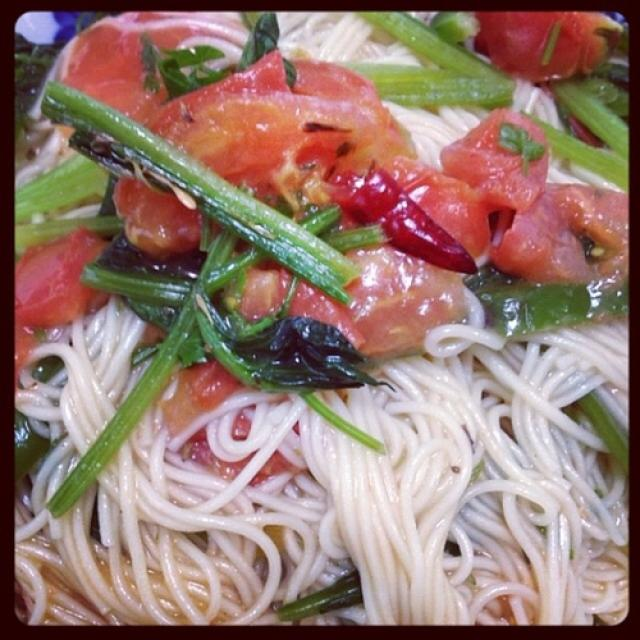面条主食: (13, 13, 619, 628)
